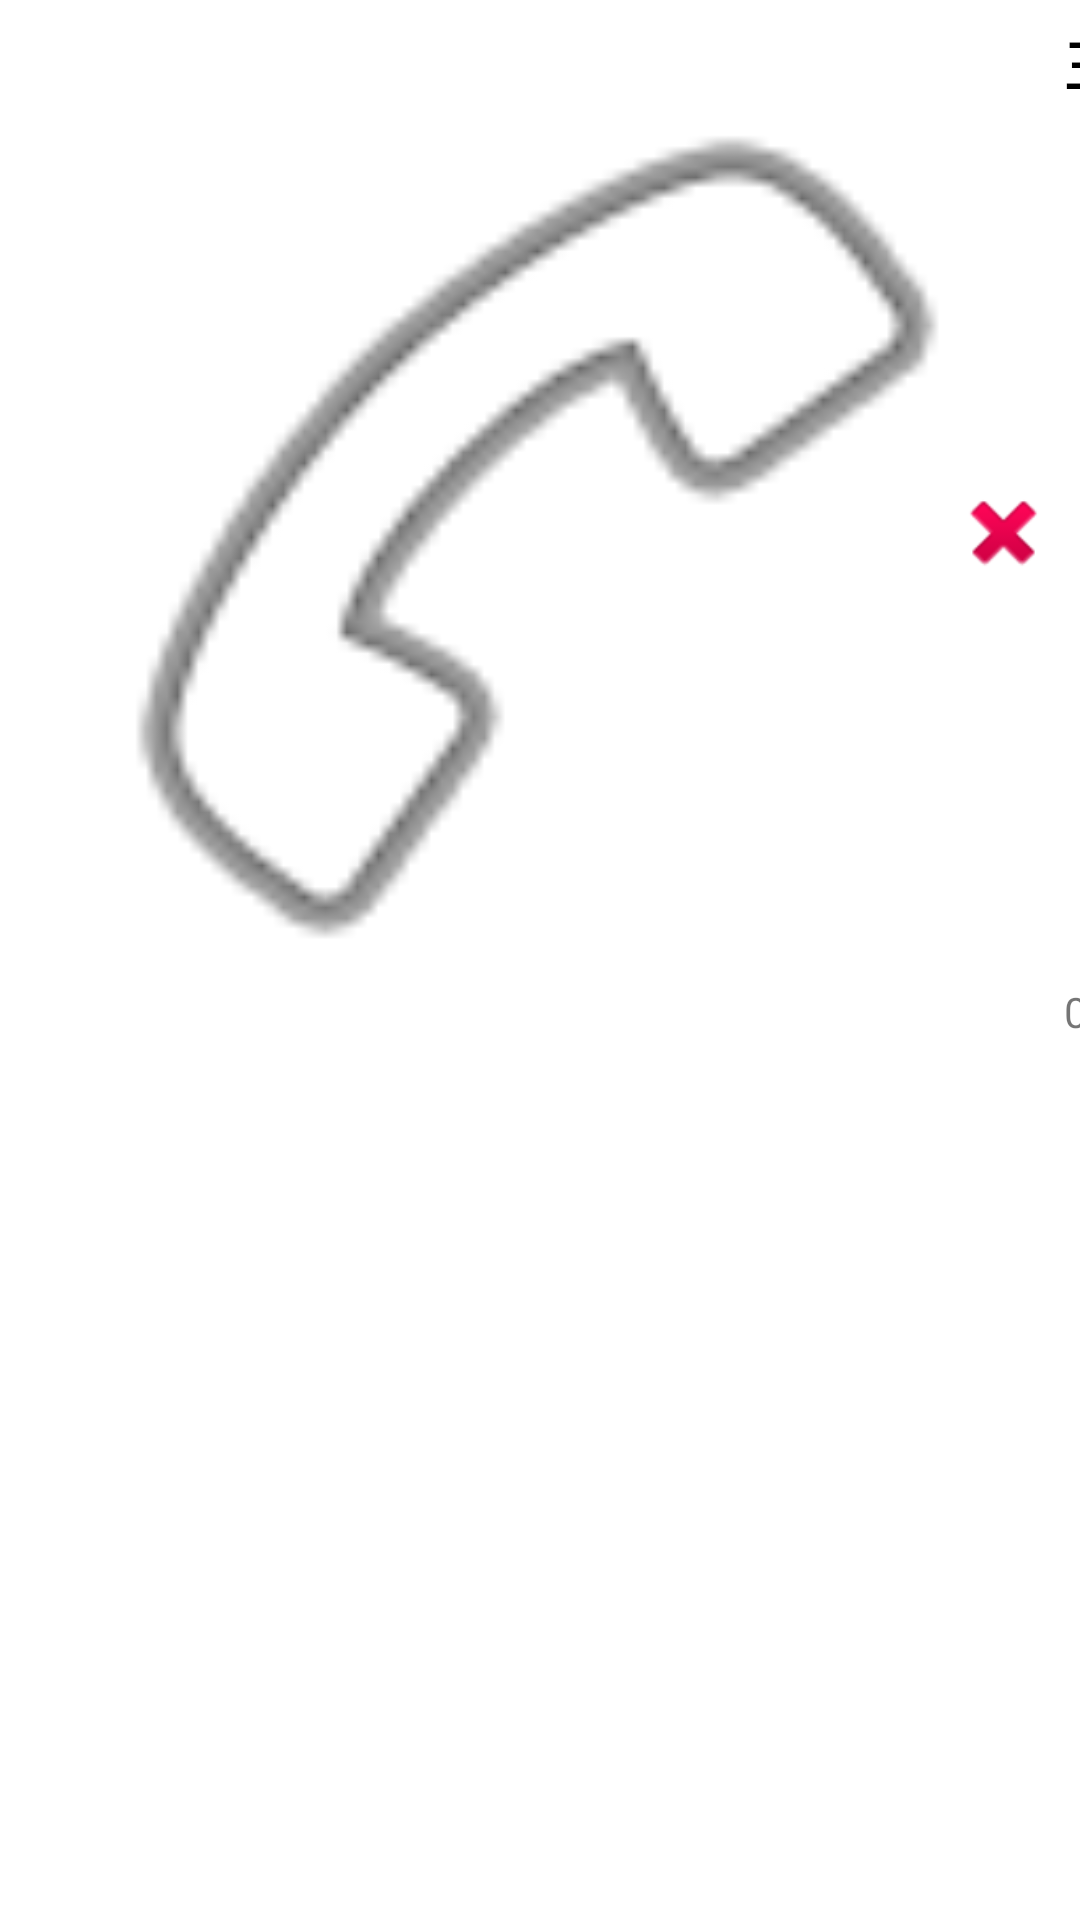

Icons on this 1080w x 1920h Android screen, each with the point to tap as (x,y):
delete: (1003,533)
